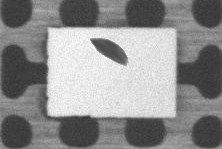DIE_INK: (130, 23, 194, 45)
